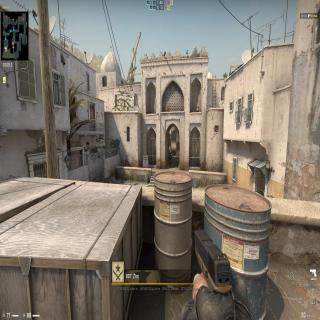CT-Head: (170, 152, 172, 156)
